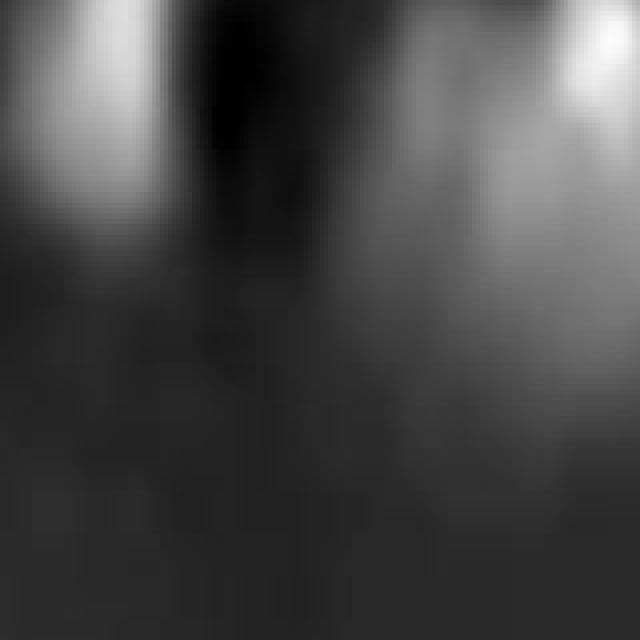person: (417, 1, 640, 401), (1, 1, 217, 337)
